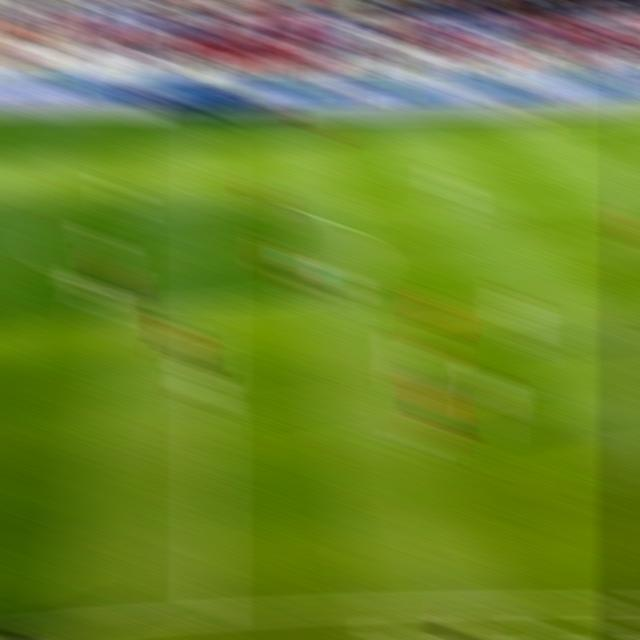halfcircle_bottom: (189, 286, 232, 323)
halfcircle_top: (190, 190, 232, 219)
midline_bottom_intersection: (184, 589, 235, 635)
midline_top_intersection: (194, 116, 228, 141)
